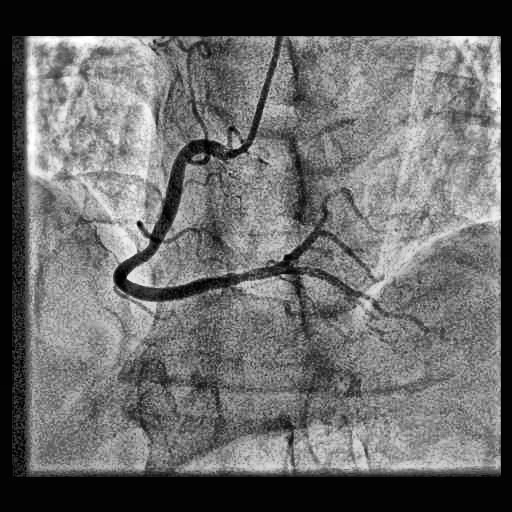pborca: (280, 187, 372, 270)
pda: (280, 267, 429, 330)
rca: (114, 139, 279, 301)
